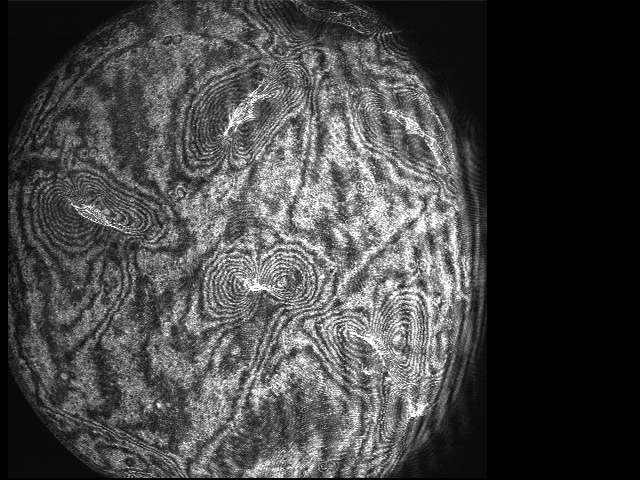plume: (189, 66, 305, 165), (29, 174, 163, 253), (200, 258, 317, 323)
